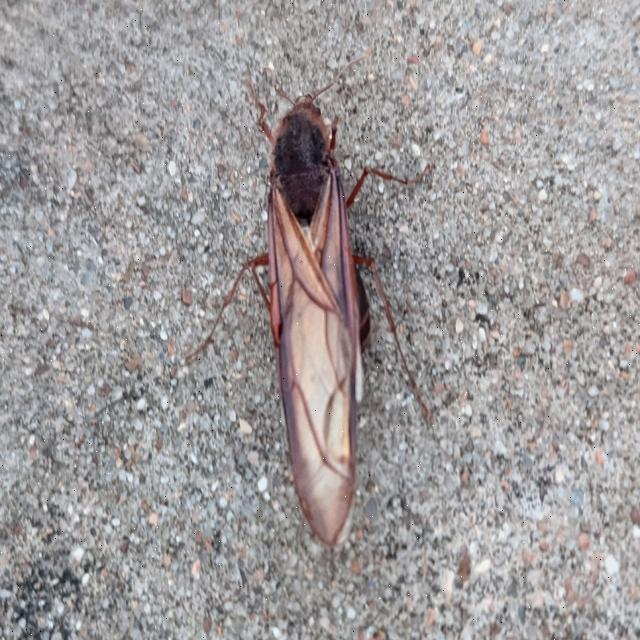Alive-Male-Alate: (184, 45, 436, 549)
